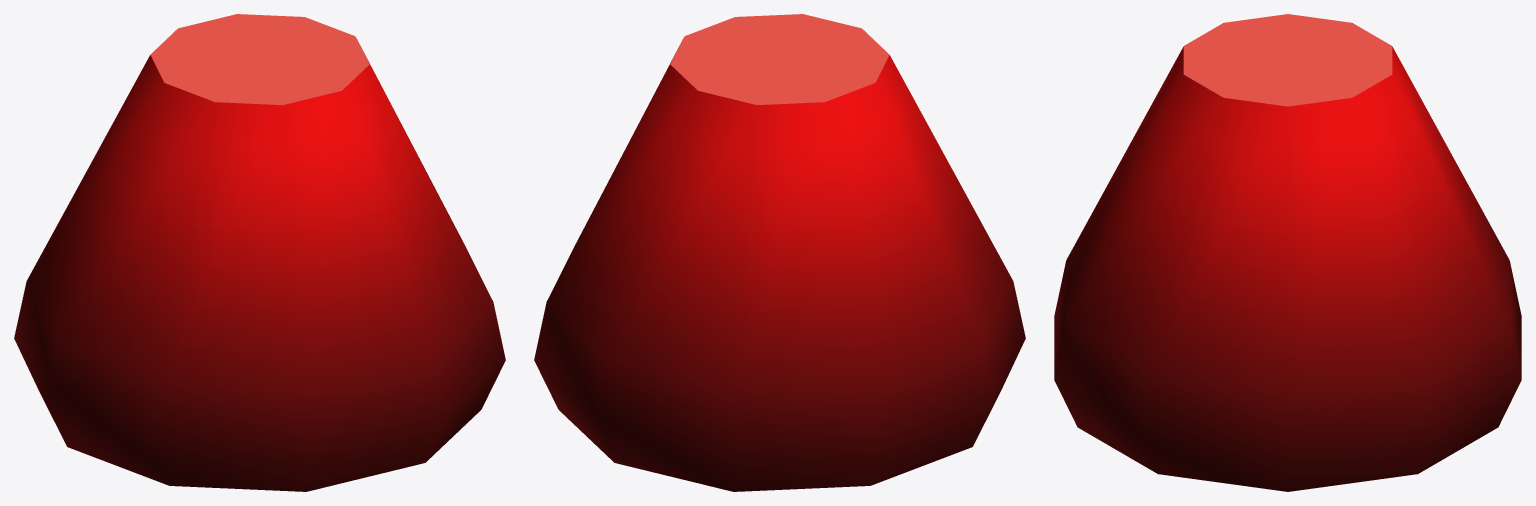
Rendered from Potion_A_M_Liquid.fbx.
3 views of the same model, side by side, from view 1: azimuth 30°, elevation 25°; view 2: azimuth 150°, elevation 25°; view 3: azimuth 270°, elevation 25° (orthographic).
Parts seen in each view (by area): view 1: Potion_A_M_Liquid; view 2: Potion_A_M_Liquid; view 3: Potion_A_M_Liquid.
Boxes of the visible parts, <box> form: Potion_A_M_Liquid: <box>14,14,505,491</box>; Potion_A_M_Liquid: <box>534,14,1025,491</box>; Potion_A_M_Liquid: <box>1054,14,1521,491</box>.
Bounding box in the file's own units: 48.34 × 36.71 × 45.98.
